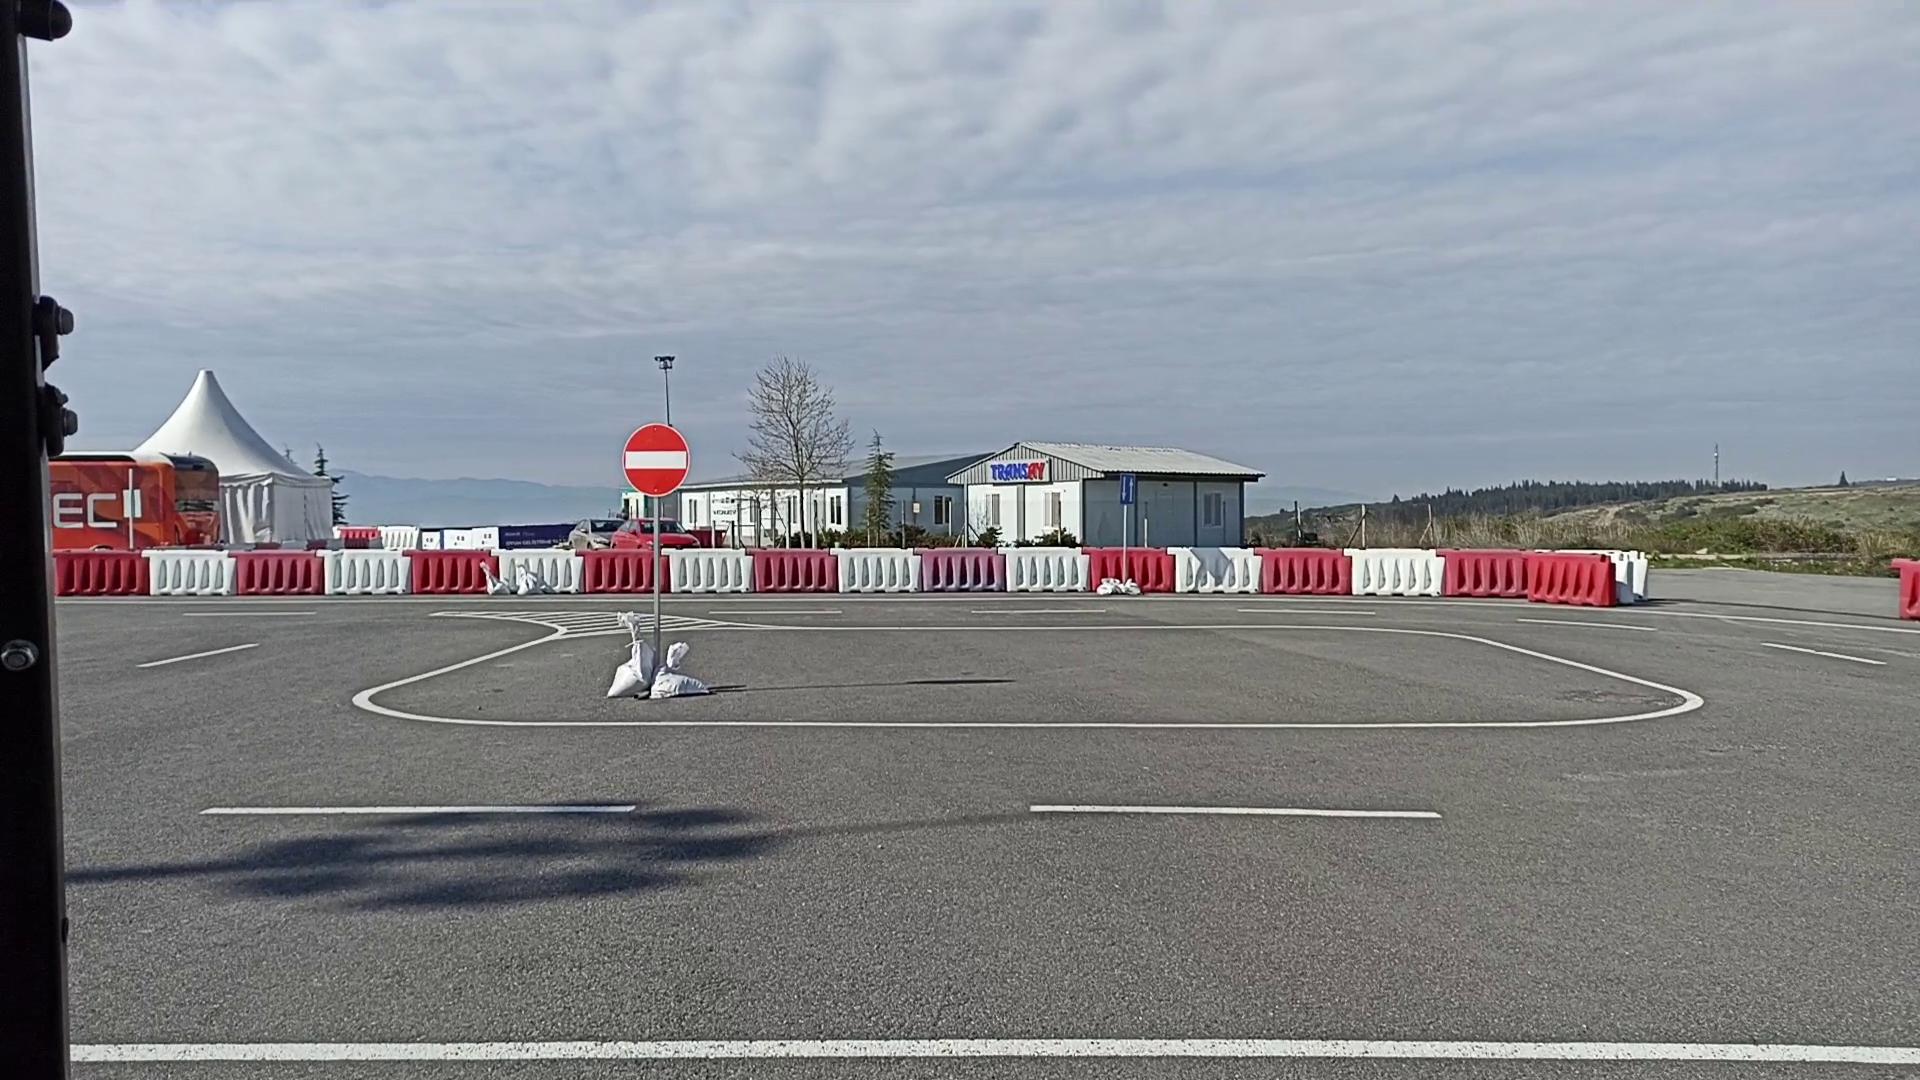noentryway: (621, 423, 692, 498)
